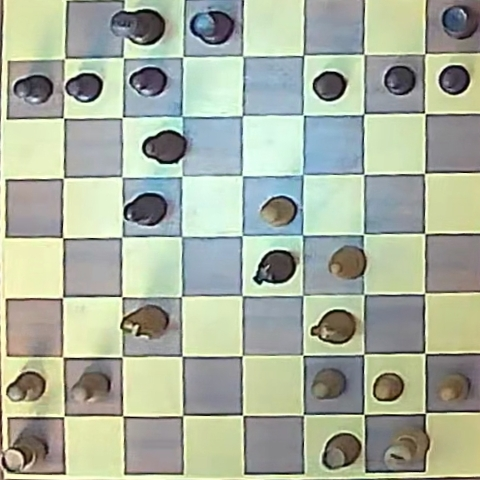black-bishop: (142, 129, 186, 164), (124, 193, 167, 227)
black-king: (112, 8, 164, 46)
black-knight: (254, 249, 296, 285)
black-pawn: (13, 74, 53, 105), (129, 67, 167, 97), (65, 72, 103, 102), (313, 71, 347, 101), (384, 65, 416, 95), (438, 65, 470, 95)
black-rook: (189, 10, 234, 45), (441, 4, 478, 39)
white-bishop: (328, 246, 366, 281)
white-king: (383, 428, 429, 469)
white-knight: (121, 305, 167, 340), (311, 310, 355, 345)
white-pawn: (6, 371, 46, 402), (71, 372, 109, 403), (259, 196, 296, 227), (311, 368, 345, 399), (437, 374, 468, 403), (373, 373, 404, 402)
white-rook: (3, 435, 47, 473), (322, 433, 361, 470)
